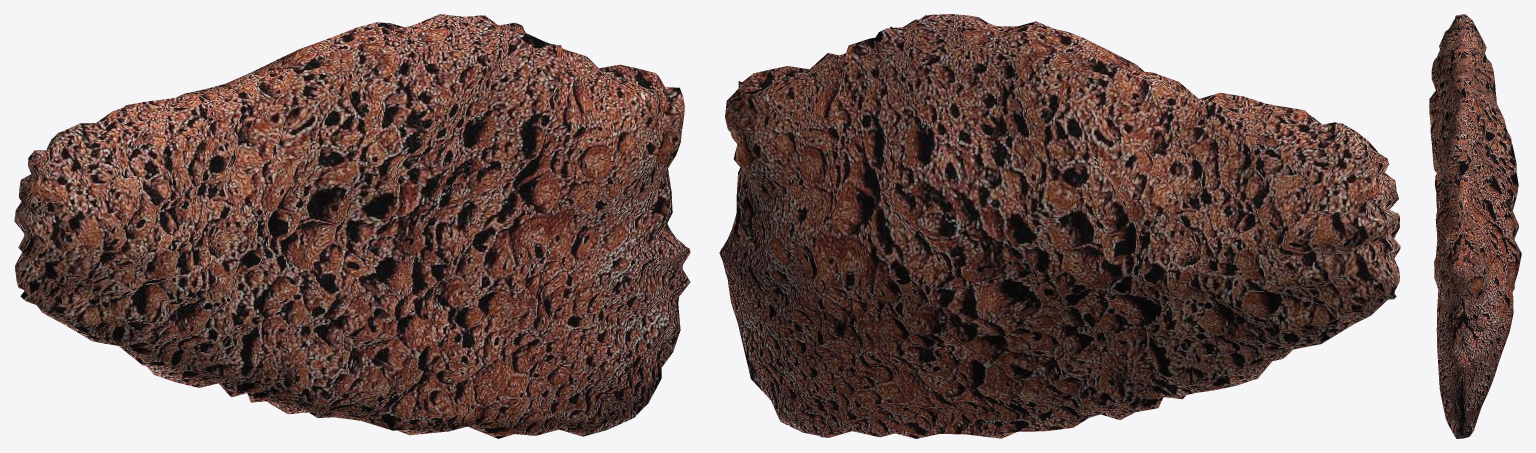
File: Scoria updated.fbx
The picture shows the model from 3 angles, left to right: view 1: azimuth 30°, elevation 25°; view 2: azimuth 150°, elevation 25°; view 3: azimuth 270°, elevation 25°; orthographic projection. The views are drawn at different scales.
Visible parts, largest first — view 1: Scoria; view 2: Scoria; view 3: Scoria.
Part boxes in pixels (x1,y1,x2,y2): Scoria: (14, 14, 690, 438); Scoria: (719, 14, 1400, 438); Scoria: (1429, 14, 1521, 438).
Size of the model in its own units: 435 by 287 by 84.92.
